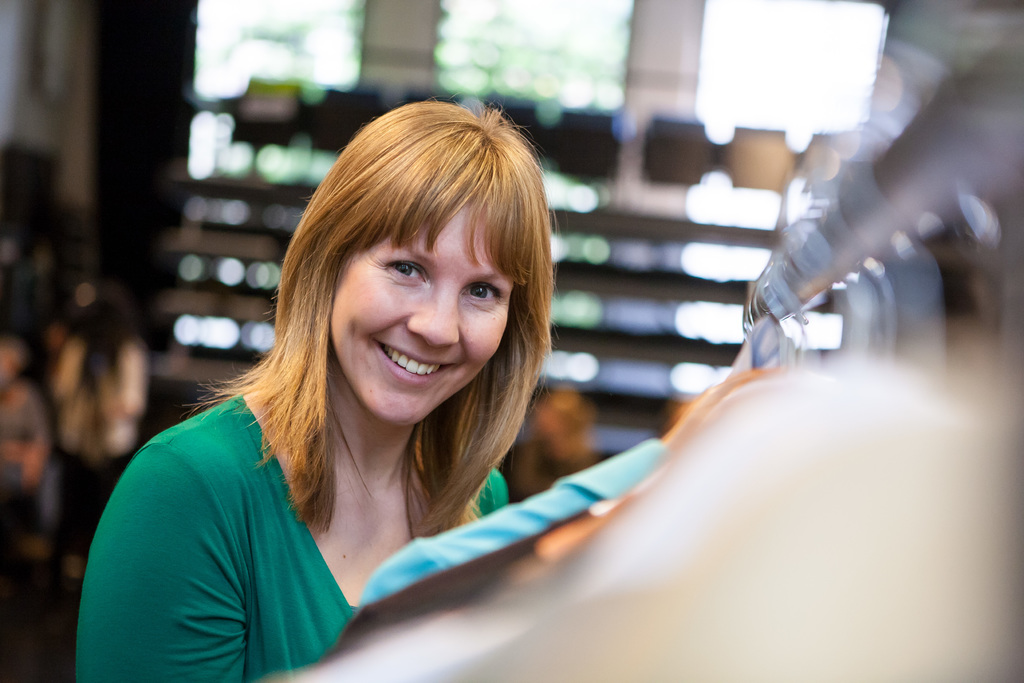face: (329, 196, 516, 421)
